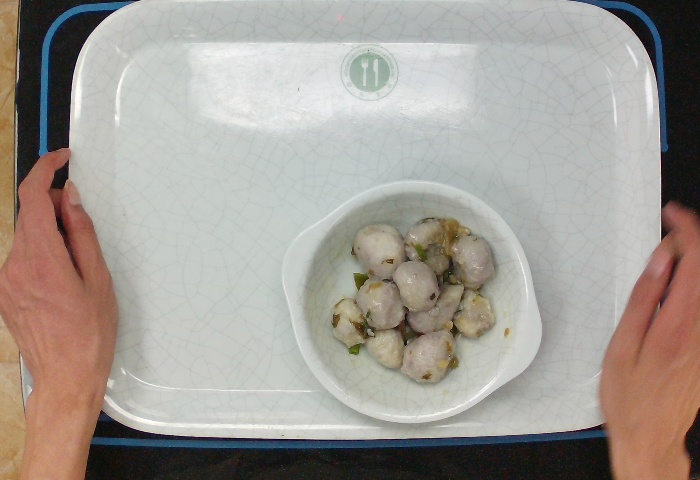JYsf-Shuang_Er_Wan: (275, 175, 548, 429)
